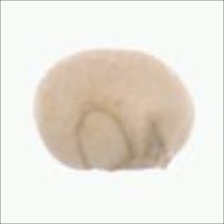L5: (72, 105, 134, 172)
L6: (30, 47, 195, 175)
